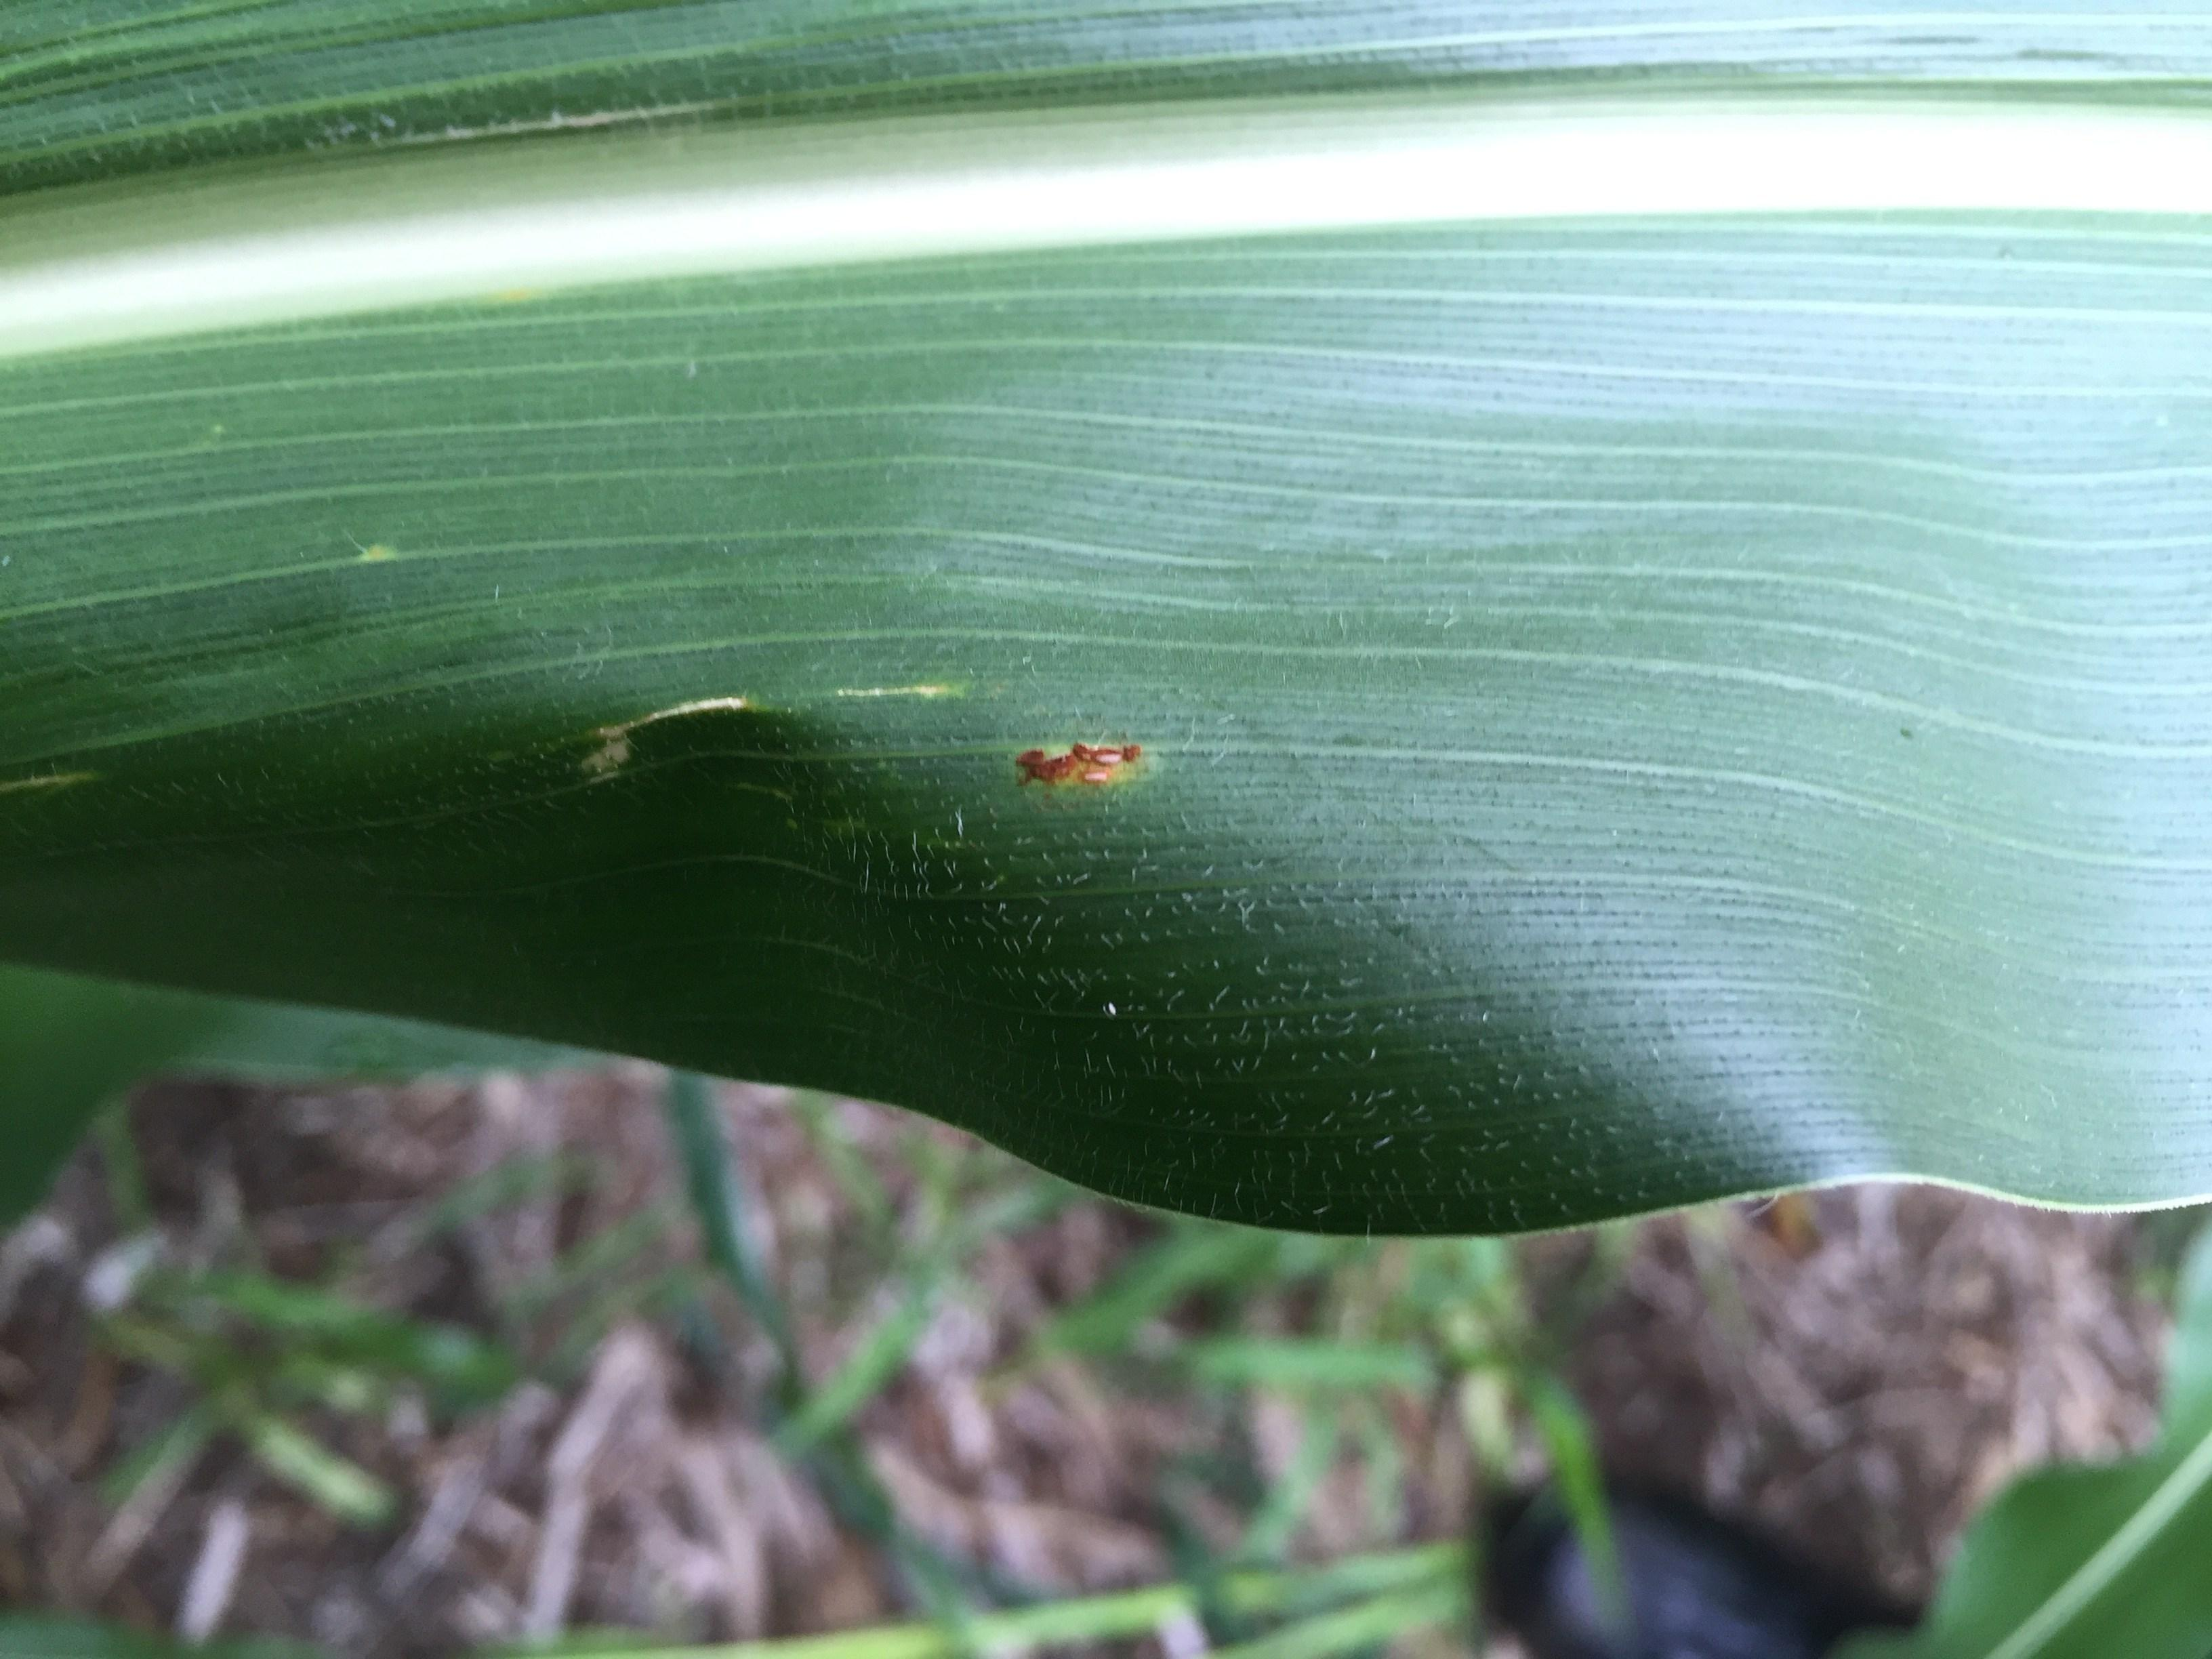Corn rust leaf: (3, 5, 2212, 1230)
